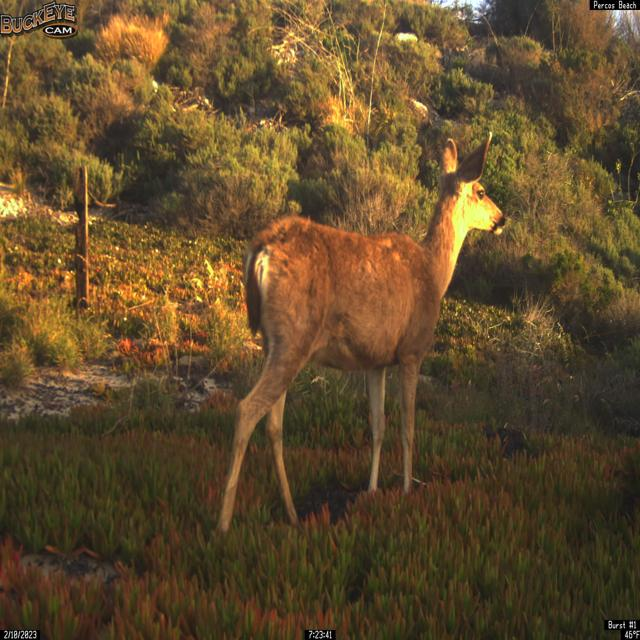deer: (214, 132, 507, 538)
